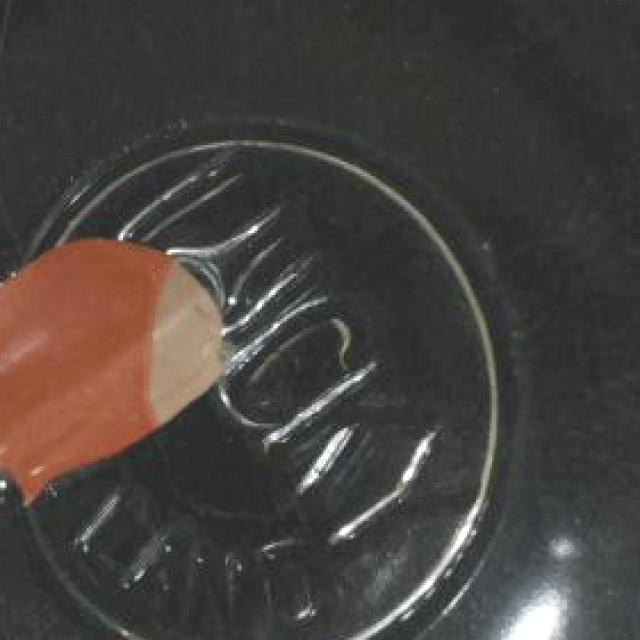Microplastic: (0, 221, 230, 528)
